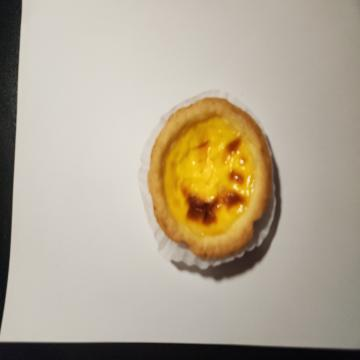EggTart: (147, 97, 274, 258)
